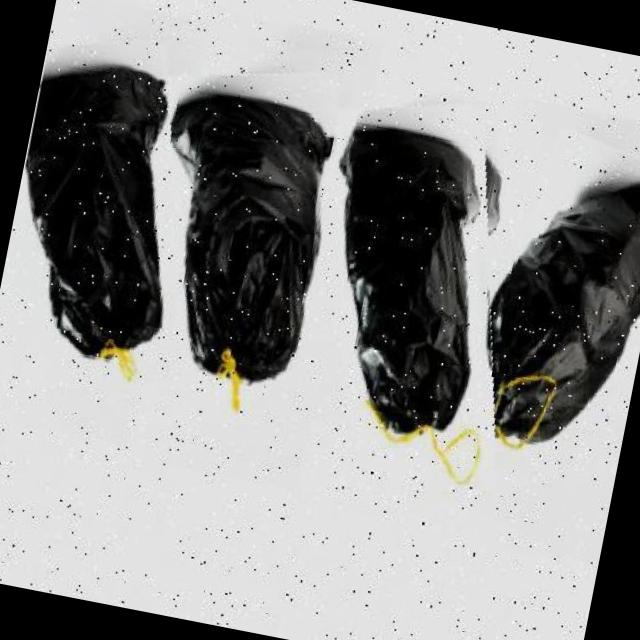KantongPlastik: (283, 111, 508, 462), (120, 85, 346, 422), (0, 54, 210, 388), (463, 158, 640, 470)
